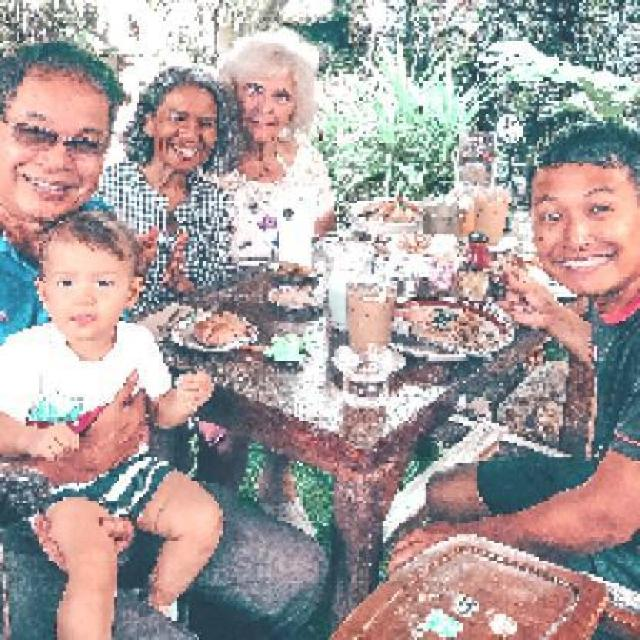child: (3, 208, 226, 638)
